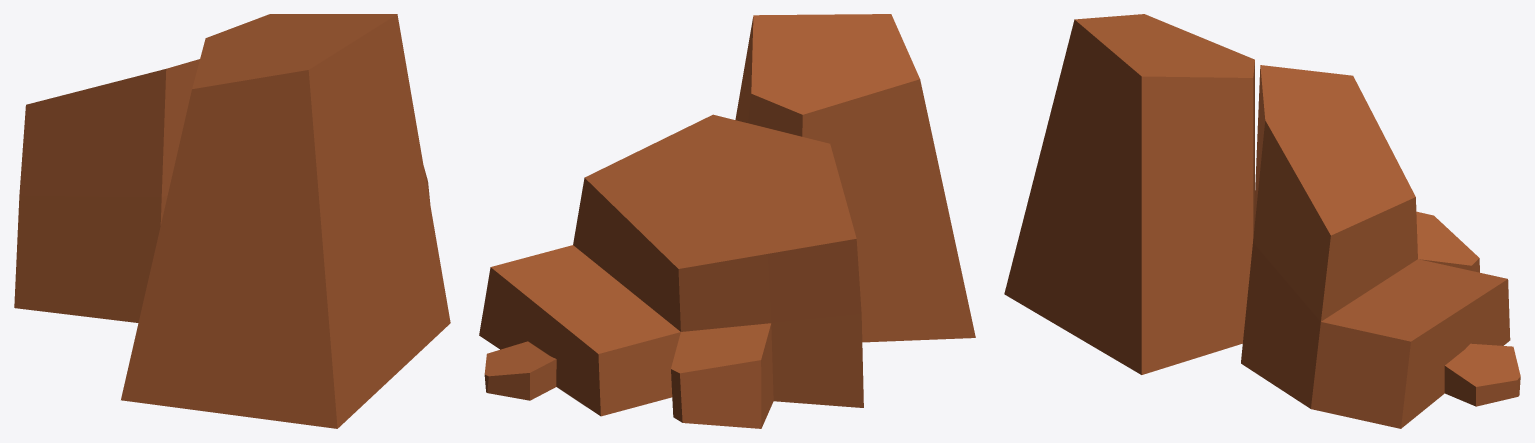
Rendered from fbx_big_rock.fbx.
3 views of the same model, side by side, from view 1: azimuth 30°, elevation 25°; view 2: azimuth 150°, elevation 25°; view 3: azimuth 270°, elevation 25° (orthographic). The views are drawn at different scales.
Parts seen in each view (by area): view 1: Cylinder.007; view 2: Cylinder.007; view 3: Cylinder.007.
Part boxes in pixels (x1,y1,x2,y2): Cylinder.007: (14, 14, 450, 428); Cylinder.007: (479, 14, 975, 428); Cylinder.007: (1004, 14, 1520, 428).
Bounding box in the file's own units: 146 × 100 × 168.
